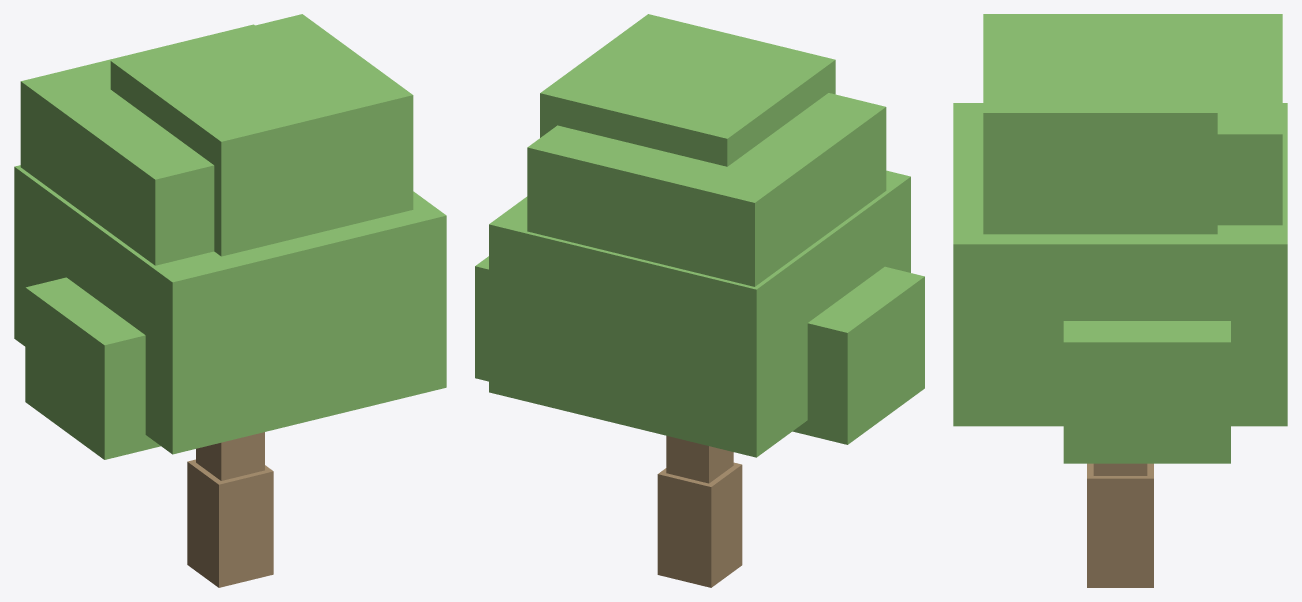
The model's file is propvar_oak_l.glb.
3 renders of one model, left to right at view 1: azimuth 30°, elevation 25°; view 2: azimuth 150°, elevation 25°; view 3: azimuth 270°, elevation 25°, orthographic. The views are drawn at different scales.
Visible parts, largest first — view 1: PropVar_Oak_L; view 2: PropVar_Oak_L; view 3: PropVar_Oak_L.
Part boxes in pixels (bbox=[...]): PropVar_Oak_L: bbox=[14, 14, 446, 587]; PropVar_Oak_L: bbox=[475, 14, 924, 587]; PropVar_Oak_L: bbox=[953, 14, 1287, 587].
Bounding box in the file's own units: 6.5 × 8.6 × 5.
